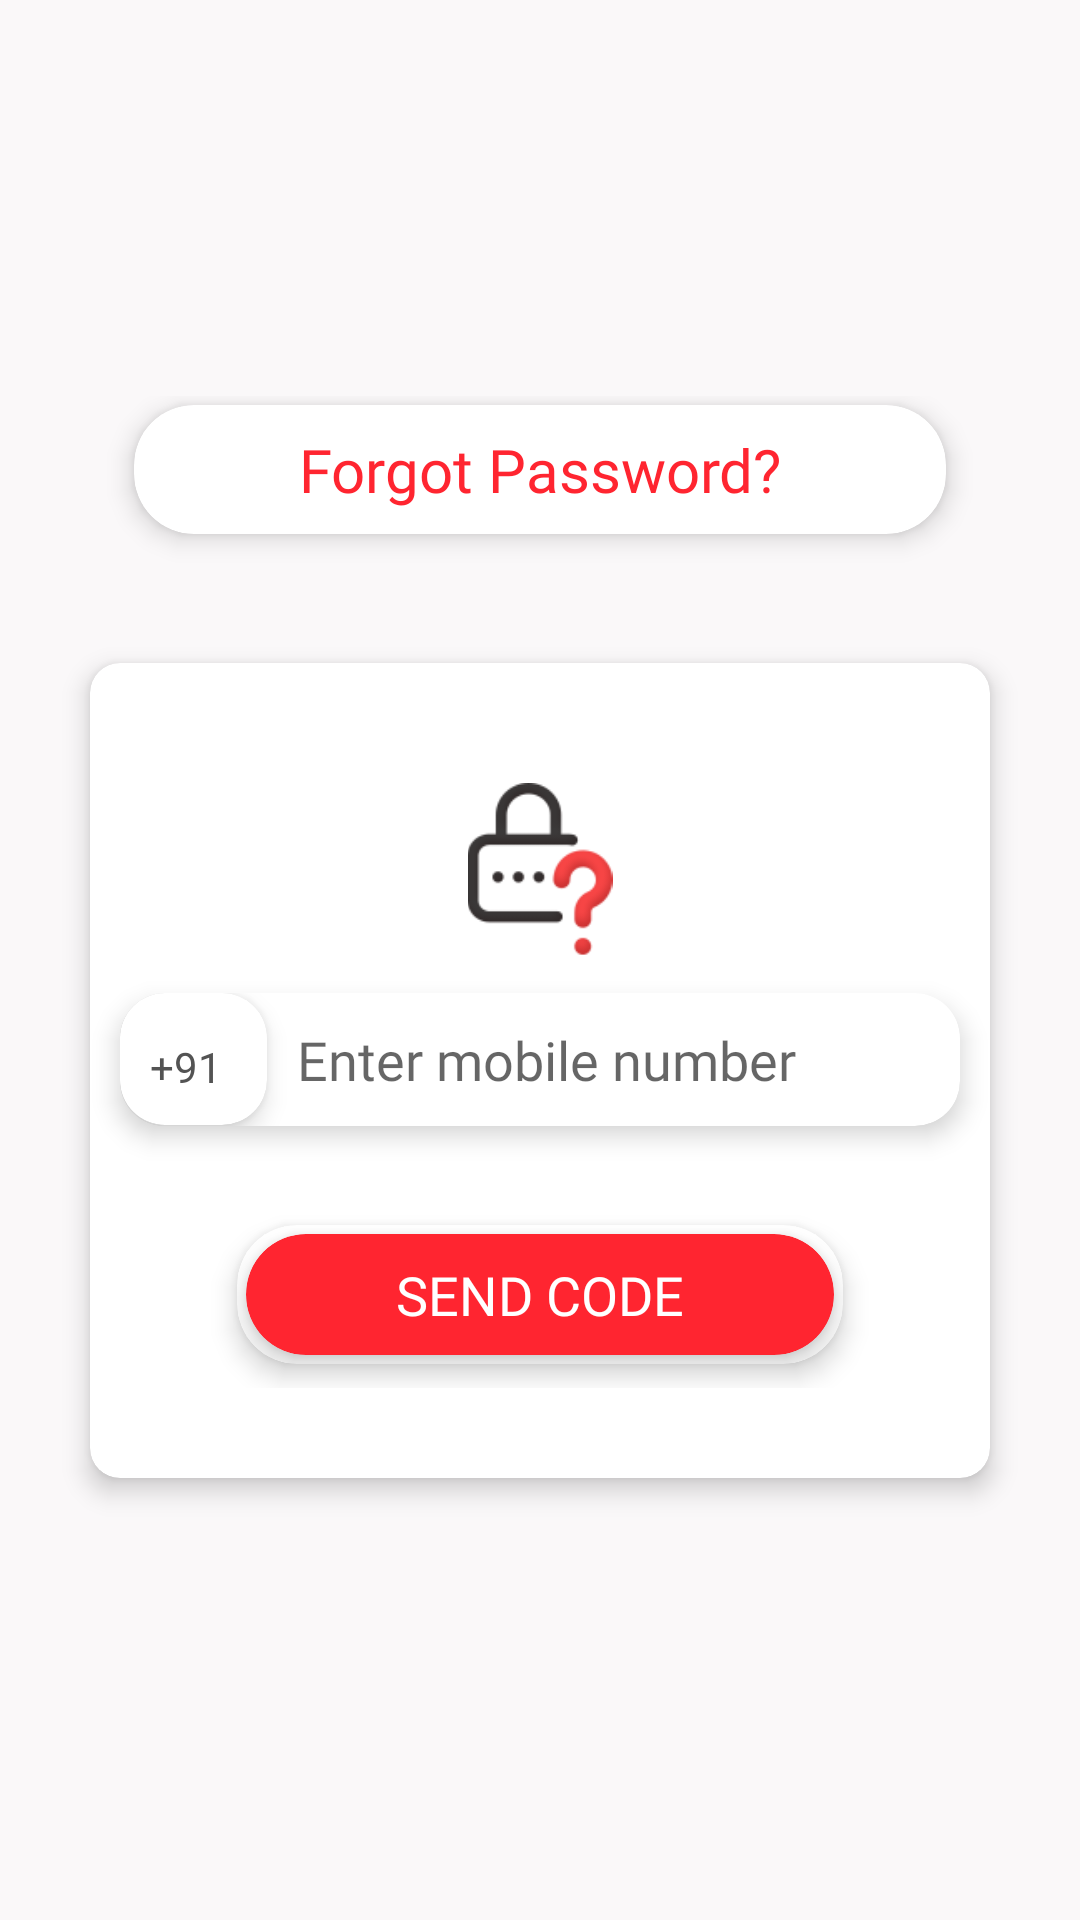

Named icons in this screenshot (1080x1920) and their bounding boxes, Rect(x1, y1, x2, y2):
forgot password: Rect(468, 783, 613, 955)
